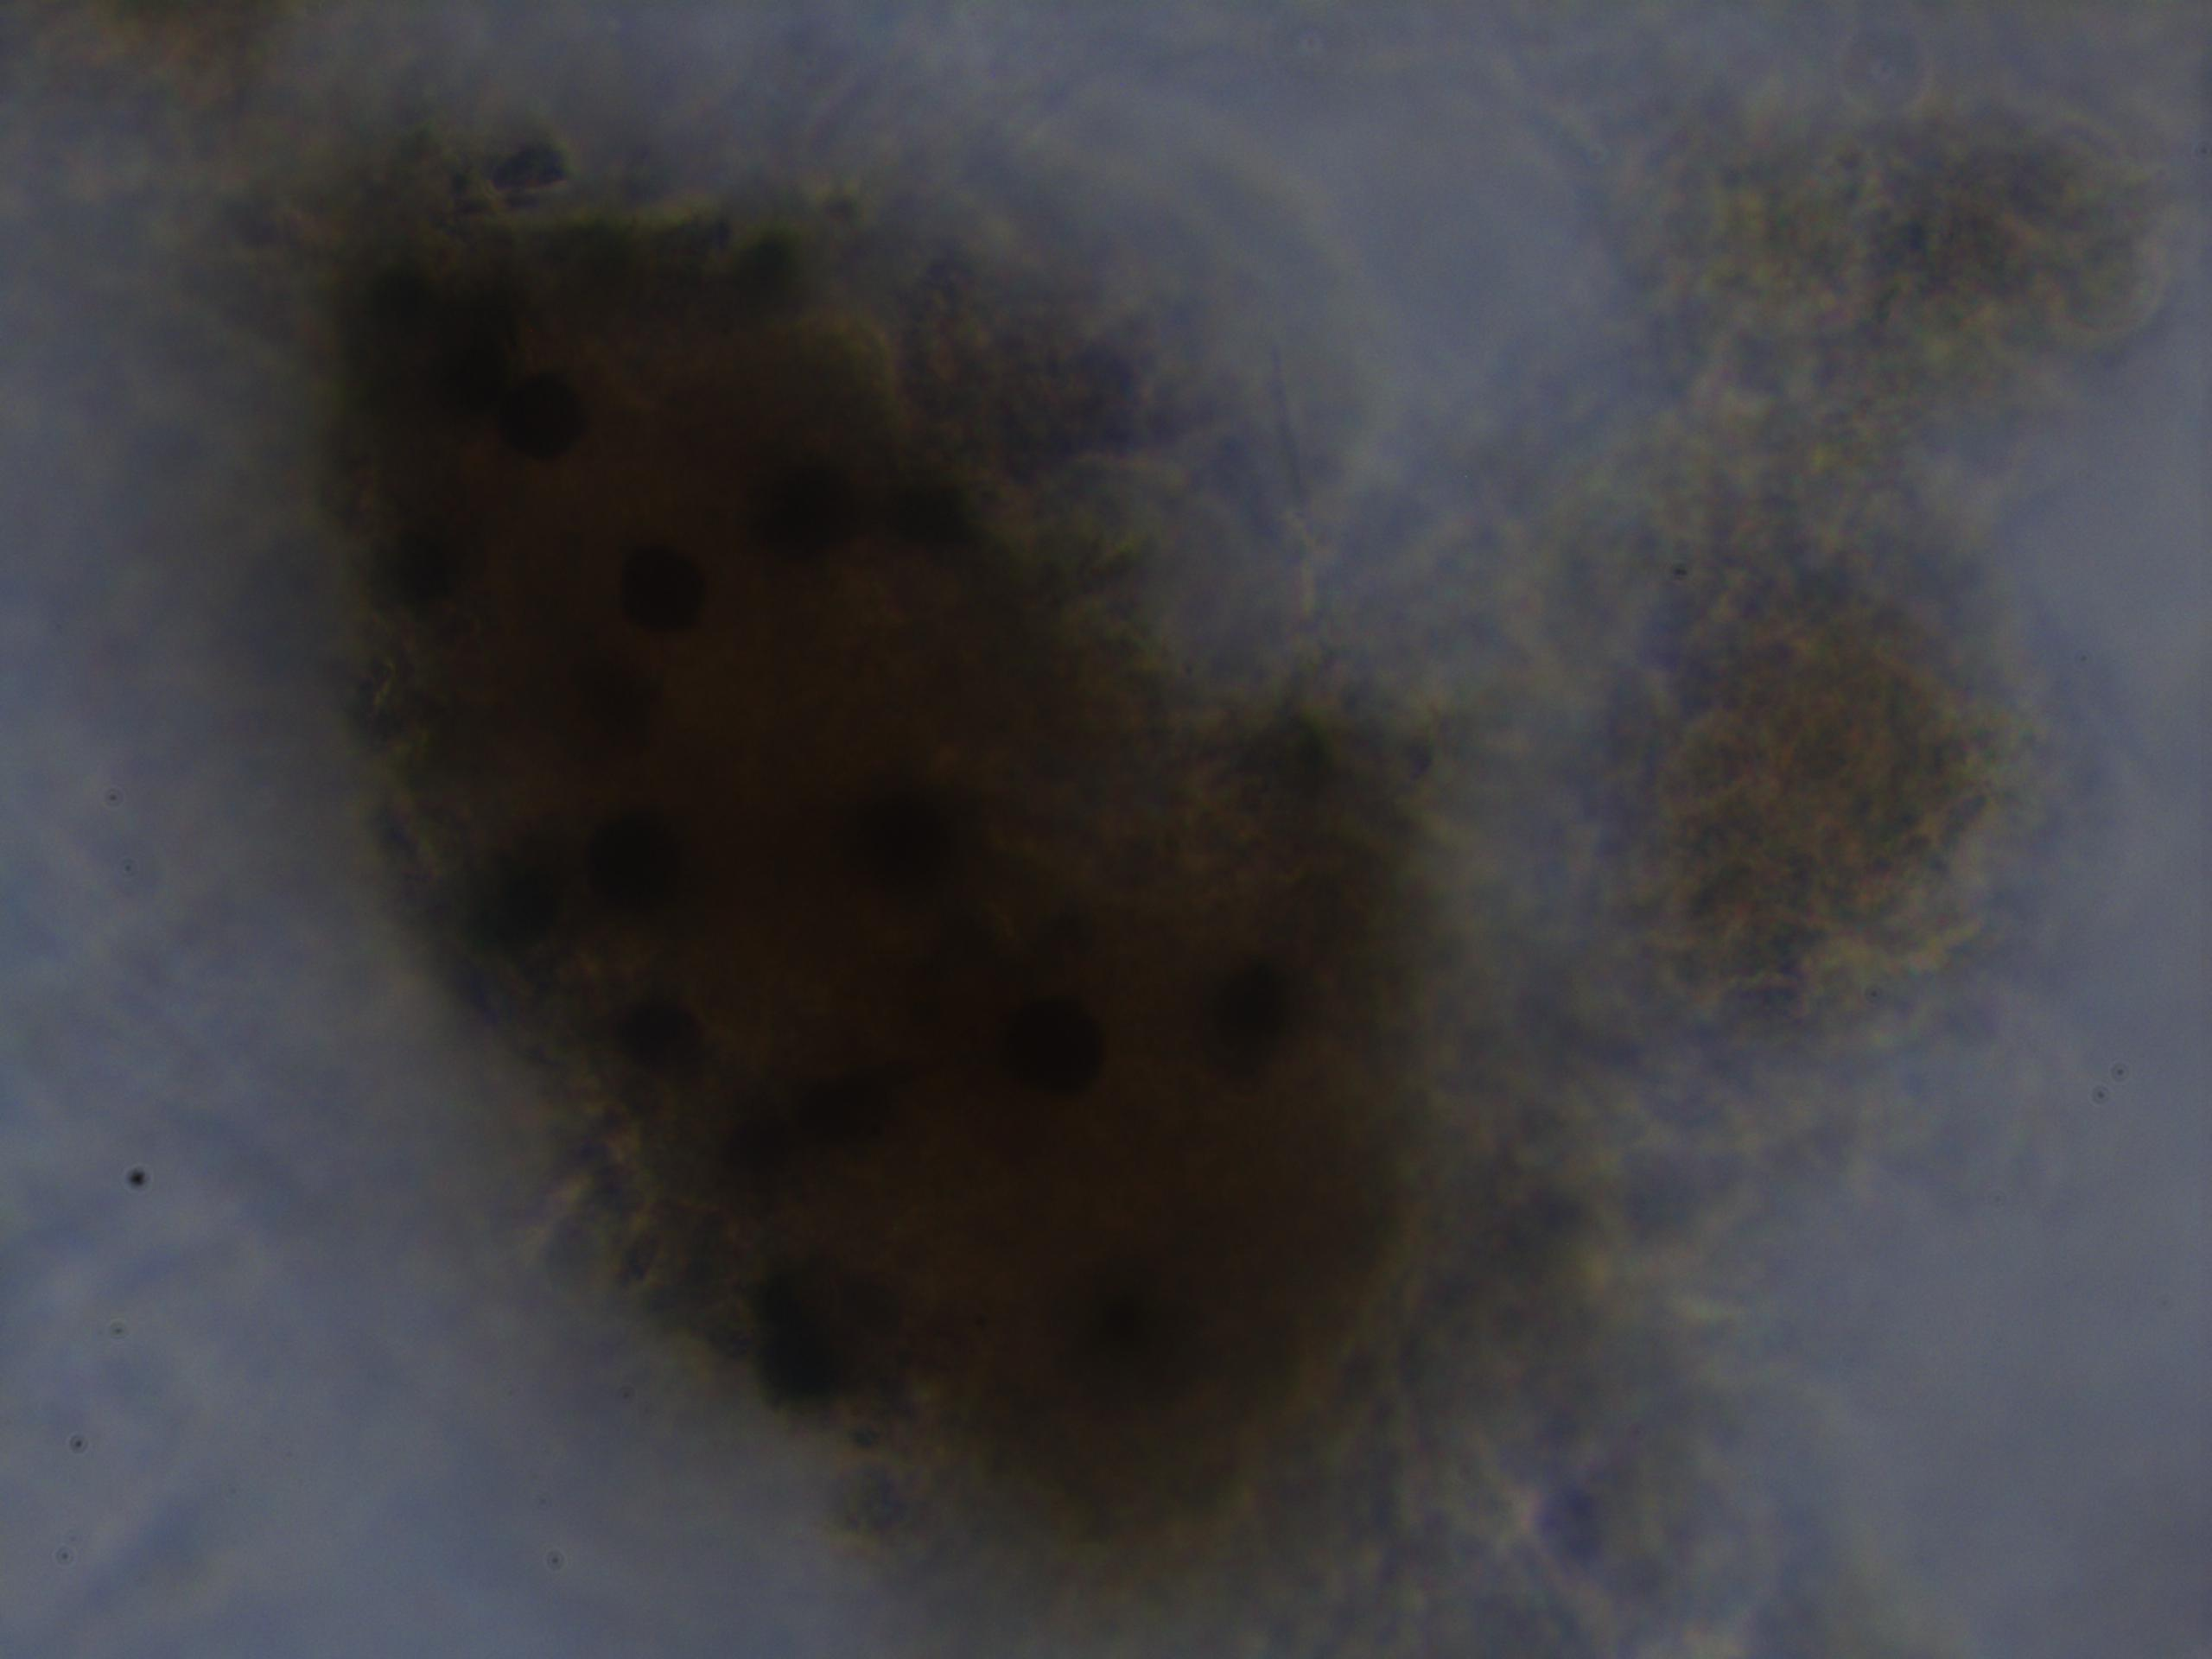spherical_floc: (310, 155, 1461, 1561)
